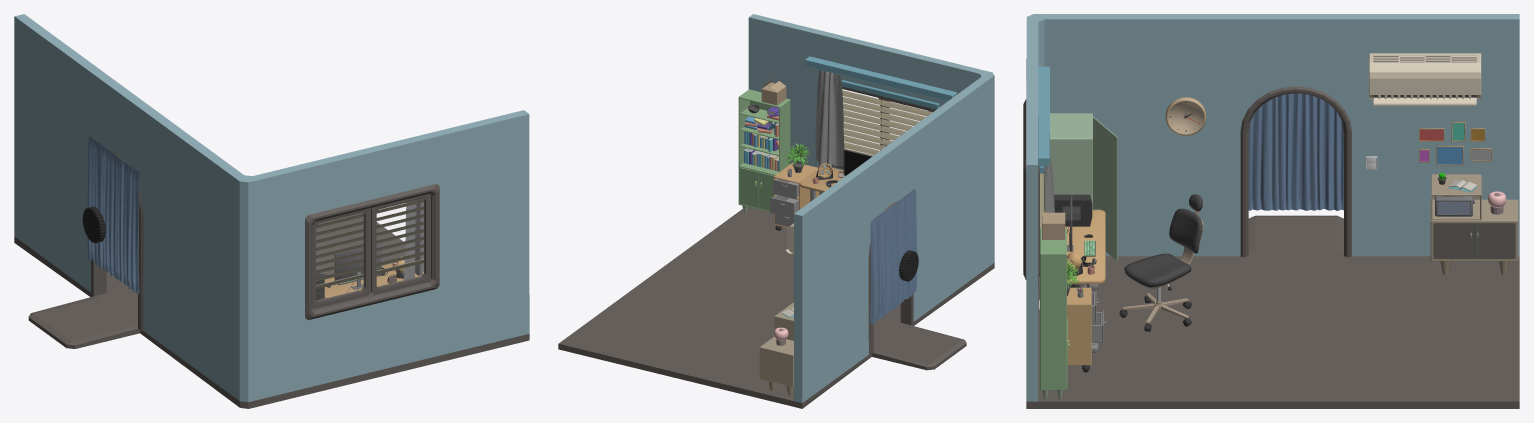
Rendered from Room.glb.
The picture shows the model from 3 angles, left to right: view 1: azimuth 30°, elevation 25°; view 2: azimuth 150°, elevation 25°; view 3: azimuth 270°, elevation 25°; orthographic projection. The views are drawn at different scales.
Parts seen in each view (by area): view 1: 墙壁, 地板, 门帘, 窗户外框, Venetian_slats, 窗户左, 窗户右, 门, 平面.008, 平面.002, 立方体.072, 柱体.019; view 2: 墙壁, 地板, 门帘, Venetian_slats, 平面.008, 立方体.013, 立方体, 立方体.094, 门, 立方体.012, 立方体.018, VenetianFrame (+7 smaller); view 3: 墙壁, 地板, 门帘, 立方体.060, 立方体.013, 立方体.002, 门, 立方体, 立方体.003, 立方体.012, 平面.002, 立方体.095 (+13 smaller).
Boxes of the visible parts, box(x1,y1,x2,y2) form: 墙壁: box(14, 14, 529, 402); 地板: box(14, 212, 529, 408); 门帘: box(87, 136, 139, 293); 窗户外框: box(305, 184, 439, 320); Venetian_slats: box(316, 199, 423, 281); 窗户左: box(371, 194, 430, 294); 窗户右: box(312, 208, 370, 308); 门: box(91, 150, 143, 330); 平面.008: box(403, 198, 423, 279); 平面.002: box(324, 263, 421, 298); 立方体.072: box(334, 243, 381, 280); 柱体.019: box(82, 206, 105, 243); 墙壁: box(748, 14, 994, 402); 地板: box(558, 207, 994, 408); 门帘: box(870, 189, 917, 324); Venetian_slats: box(842, 90, 932, 154); 平面.008: box(815, 70, 844, 166); 立方体.013: box(738, 89, 790, 212); 立方体: box(759, 302, 793, 387); 立方体.094: box(805, 56, 956, 101); 门: box(868, 201, 913, 354); 立方体.012: box(773, 162, 819, 227); 立方体.018: box(739, 167, 758, 208); VenetianFrame: box(841, 80, 939, 109); 墙壁: box(1026, 14, 1519, 401); 地板: box(1026, 215, 1519, 408); 门帘: box(1248, 93, 1343, 210); 立方体.060: box(1369, 53, 1481, 99); 立方体.013: box(1040, 228, 1066, 390); 立方体.002: box(1044, 113, 1092, 209); 门: box(1240, 86, 1351, 257); 立方体: box(1430, 174, 1518, 261); 立方体.003: box(1093, 116, 1117, 260); 立方体.012: box(1067, 287, 1091, 365); 平面.002: box(1044, 209, 1105, 284); 立方体.095: box(1124, 253, 1191, 288).
Bounding box in the file's own units: 5.57 × 3.38 × 6.23.
